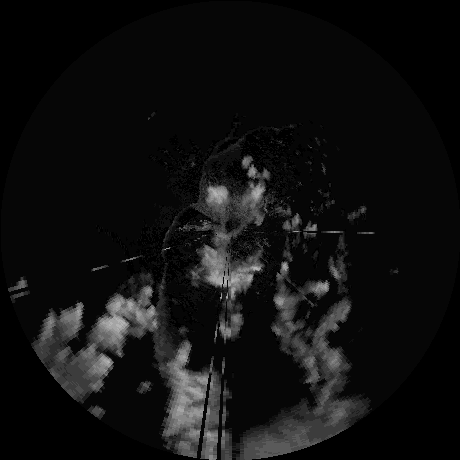frontgust: (159, 204, 197, 301), (197, 134, 246, 201)
